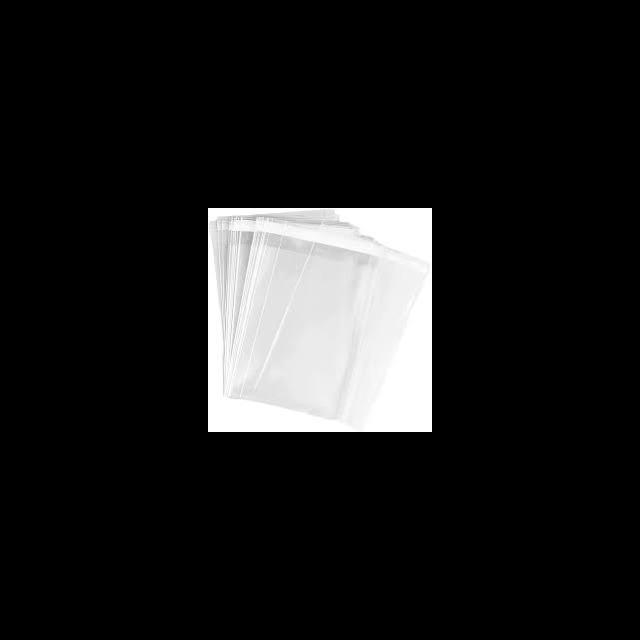plastic: (208, 208, 431, 431)
